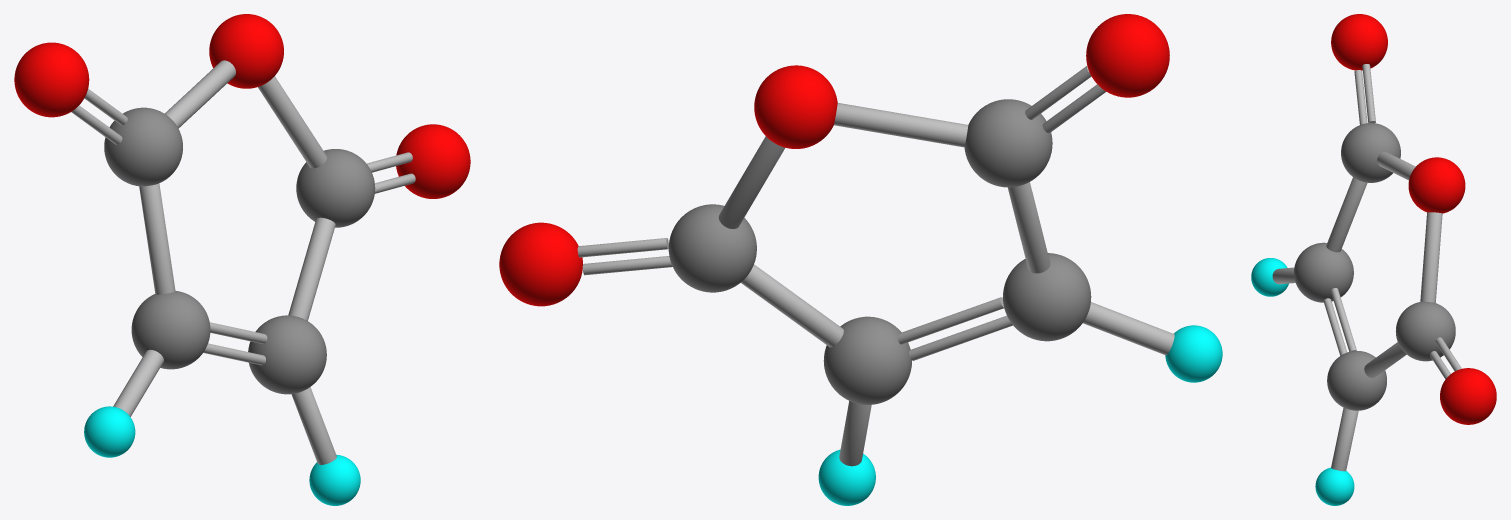
File: maleic anhydride.glb
3 renders of one model, left to right at view 1: azimuth 30°, elevation 25°; view 2: azimuth 150°, elevation 25°; view 3: azimuth 270°, elevation 25°, orthographic. The views are drawn at different scales.
Visible parts, largest first — view 1: CMAtom_4, CMAtom_0, CMAtom_1, CMAtom_3, CMAtom_8, CMAtom_6, CMAtom_7, CMBond_4_Segment_0, CMBond_3_Segment_0, CMAtom_5, CMBond_7_Segment_0, CMAtom_2 (+7 smaller); view 2: CMAtom_4, CMAtom_1, CMAtom_3, CMAtom_0, CMAtom_8, CMAtom_7, CMAtom_6, CMBond_12_Segment_0, CMBond_3_Segment_0, CMAtom_5, CMAtom_2, CMBond_7_Segment_0 (+9 smaller); view 3: CMAtom_3, CMAtom_0, CMAtom_1, CMAtom_6, CMAtom_7, CMAtom_4, CMAtom_8, CMBond_7_Segment_0, CMBond_4_Segment_0, CMAtom_2, CMBond_6_Segment_0, CMAtom_5 (+8 smaller).
Part boxes in pixels (<box>): CMAtom_4: <box>104,107,182,186</box>; CMAtom_0: <box>131,291,210,369</box>; CMAtom_1: <box>248,315,326,394</box>; CMAtom_3: <box>296,149,375,227</box>; CMAtom_8: <box>14,42,89,117</box>; CMAtom_6: <box>396,124,470,198</box>; CMAtom_7: <box>209,14,283,88</box>; CMBond_4_Segment_0: <box>139,183,175,294</box>; CMBond_3_Segment_0: <box>288,217,335,320</box>; CMAtom_5: <box>84,406,135,457</box>; CMBond_7_Segment_0: <box>258,76,326,168</box>; CMAtom_2: <box>309,454,360,505</box>; CMAtom_4: <box>964,99,1052,187</box>; CMAtom_1: <box>823,316,911,404</box>; CMAtom_3: <box>668,204,756,292</box>; CMAtom_0: <box>1003,253,1091,341</box>; CMAtom_8: <box>1086,14,1169,97</box>; CMAtom_7: <box>754,65,837,148</box>; CMAtom_6: <box>499,222,582,306</box>; CMBond_12_Segment_0: <box>834,103,968,147</box>; CMBond_3_Segment_0: <box>741,264,843,347</box>; CMAtom_5: <box>1165,325,1222,382</box>; CMAtom_2: <box>818,449,875,505</box>; CMBond_7_Segment_0: <box>718,136,784,229</box>; CMAtom_3: <box>1395,301,1455,361</box>; CMAtom_0: <box>1294,242,1353,302</box>; CMAtom_1: <box>1327,351,1386,410</box>; CMAtom_6: <box>1440,368,1496,424</box>; CMAtom_7: <box>1408,157,1465,213</box>; CMAtom_4: <box>1341,123,1400,182</box>; CMAtom_8: <box>1331,14,1387,70</box>; CMBond_7_Segment_0: <box>1420,212,1442,302</box>; CMBond_4_Segment_0: <box>1326,177,1367,252</box>; CMAtom_2: <box>1315,467,1354,505</box>; CMBond_6_Segment_0: <box>1331,408,1358,471</box>; CMAtom_5: <box>1251,258,1288,296</box>.
Size of the model in its own units: 4.67 by 4.4 by 2.52.
